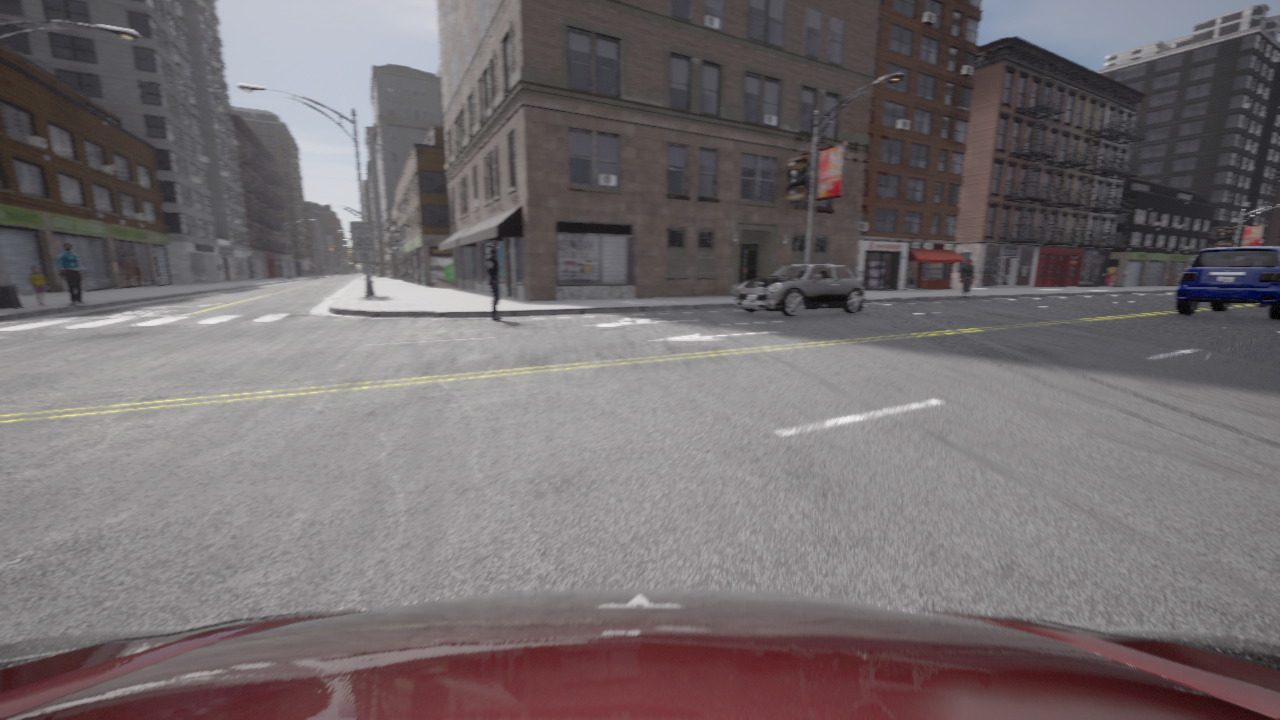cyclist: (0, 588, 1279, 719), (1175, 246, 1279, 319), (735, 264, 863, 316)
pedestrian: (55, 243, 87, 304), (486, 243, 501, 320), (29, 267, 48, 305), (960, 259, 974, 300)
